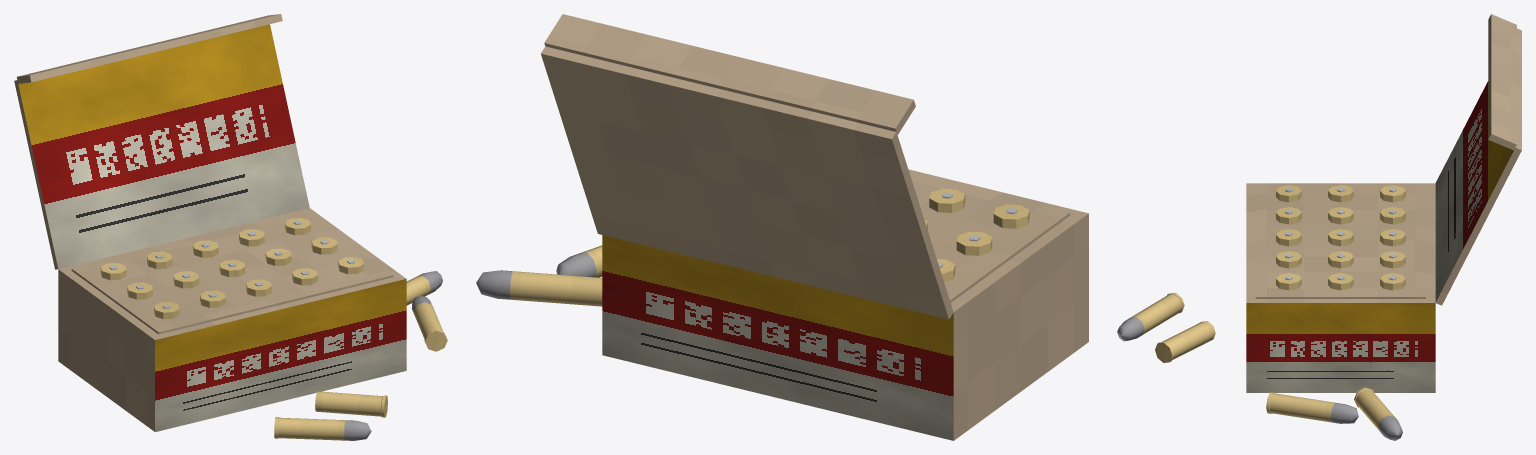
The model's file is item_ammo_box.glb.
3 renders of one model, left to right at view 1: azimuth 30°, elevation 25°; view 2: azimuth 150°, elevation 25°; view 3: azimuth 270°, elevation 25°, orthographic. The views are drawn at different scales.
Visible parts, largest first — view 1: ammo; view 2: ammo; view 3: ammo.
Part boxes in pixels (x1,y1,x2,y2): ammo: (14,14,447,440); ammo: (476,14,1088,440); ammo: (1117,14,1521,440).
Size of the model in its own units: 0.1726 by 0.1209 by 0.1712.
Materials: 5 (5 with a texture image).
